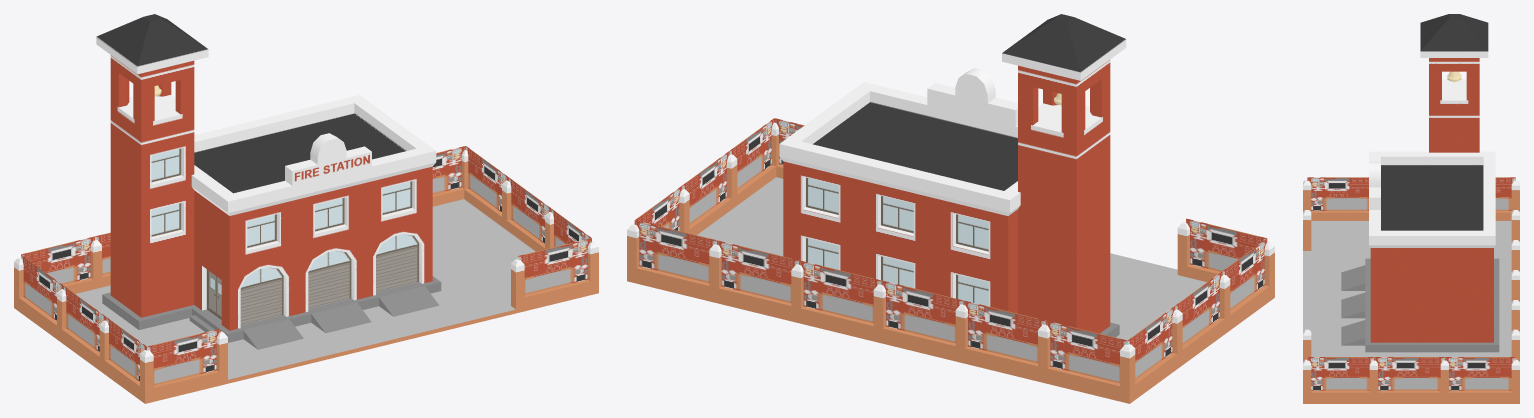
The model's file is FireStation.glb.
3 renders of one model, left to right at view 1: azimuth 30°, elevation 25°; view 2: azimuth 150°, elevation 25°; view 3: azimuth 270°, elevation 25°, orthographic. The views are drawn at different scales.
Visible parts, largest first — view 1: Box114; view 2: Box114; view 3: Box114.
Boxes of the visible parts, bbox=[...] form: Box114: bbox=[14, 14, 598, 403]; Box114: bbox=[627, 14, 1274, 403]; Box114: bbox=[1303, 14, 1519, 403].
Size of the model in its own units: 12 by 7.46 by 6.
1 material, 1 textured.
